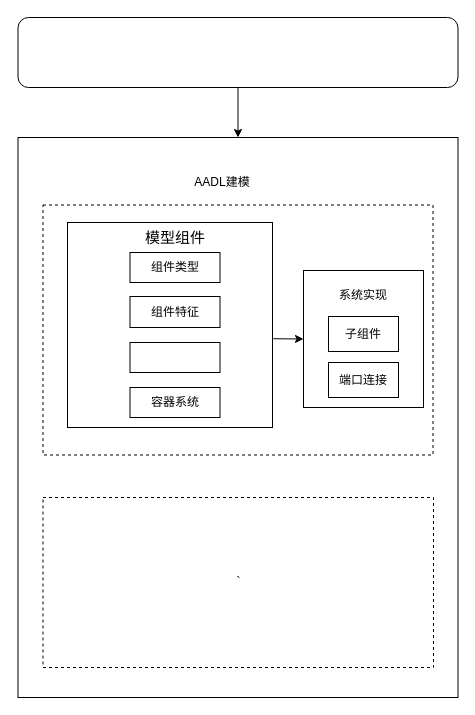
The diagram is 475 pixels wide and 715 high, and some of its shapes have lost their labels. The shapes that lost their labels are listed below. From the top down, each one's centre as x and y in pixels, then its label:
At (x=237, y=52): "需求分析".
At (x=174, y=357): "类型实现".
